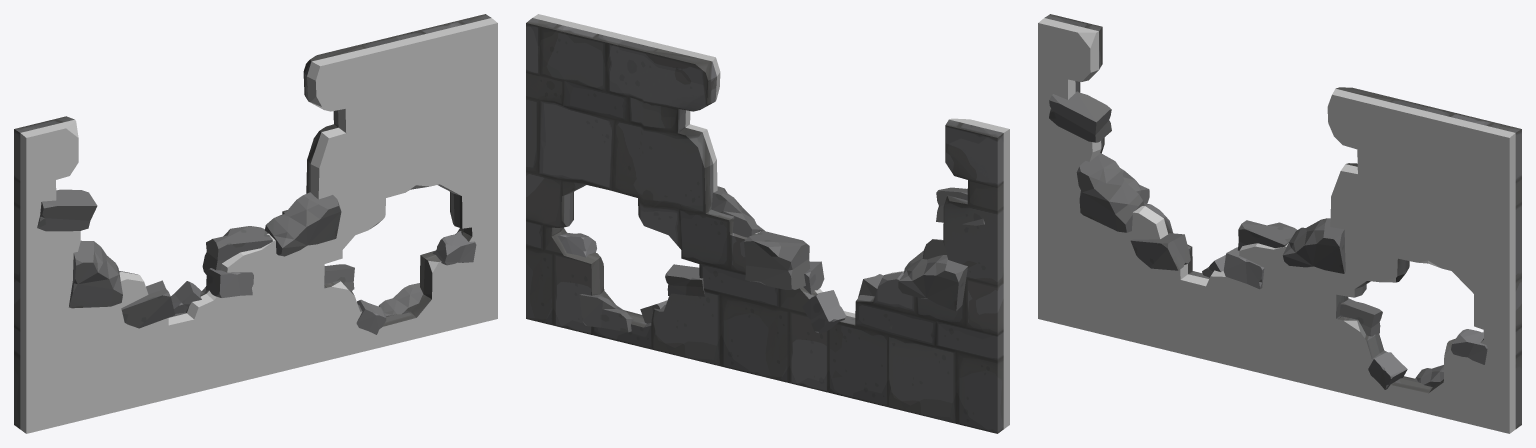
File: SM_Bld_Wall_L_Damaged_Double_01_Alt_01.fbx
3 renders of one model, left to right at view 1: azimuth 30°, elevation 25°; view 2: azimuth 150°, elevation 25°; view 3: azimuth 330°, elevation 25°, orthographic.
Parts seen in each view (by area): view 1: SM_Bld_Wall_L_Damaged_Double_01_Alt_01; view 2: SM_Bld_Wall_L_Damaged_Double_01_Alt_01; view 3: SM_Bld_Wall_L_Damaged_Double_01_Alt_01.
Boxes of the visible parts, x1,y1,x2,y2 form: SM_Bld_Wall_L_Damaged_Double_01_Alt_01: (14, 14, 497, 433); SM_Bld_Wall_L_Damaged_Double_01_Alt_01: (526, 14, 1009, 433); SM_Bld_Wall_L_Damaged_Double_01_Alt_01: (1038, 14, 1521, 433).
Size of the model in its own units: 1000 by 602 by 110.
